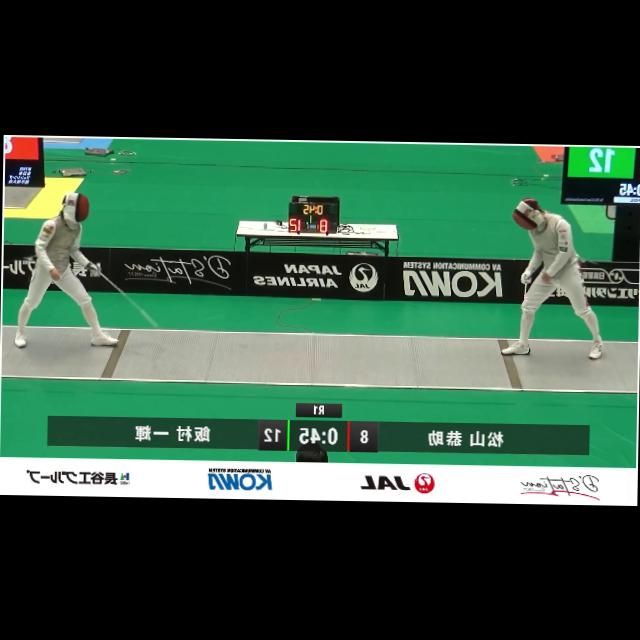blade: (89, 264, 160, 329), (516, 275, 536, 316)
